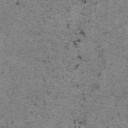oxide scale of temperature system: (64, 0, 111, 92), (56, 104, 86, 128), (32, 30, 42, 36), (46, 90, 52, 96), (16, 0, 20, 6)
